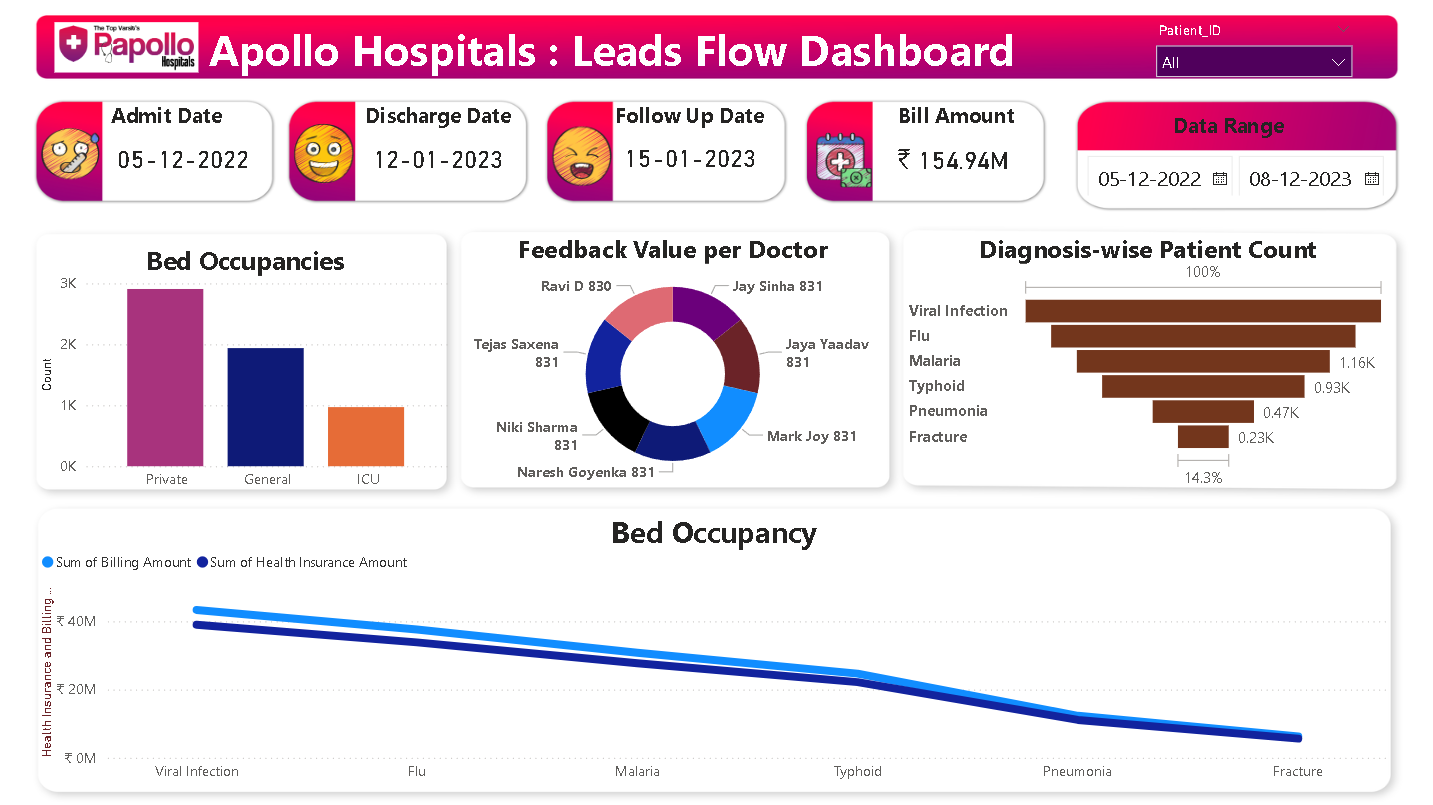

What the dashboard file says about the page in this screenshot:
{"tool":"powerbi","page":{"name":"Page 1","canvas":[1280,720],"ordinal":0},"visuals":[{"type":"textbox","box":[183.7,15.1,761.6,61.6],"z":0},{"type":"image","box":[34.3,104.3,61.7,67.2],"z":1000},{"type":"image","box":[16.5,16.5,196.2,54.9],"z":2000},{"type":"image","box":[259.3,107,63.1,63.1],"z":3000},{"type":"image","box":[481.6,108.4,78.2,63.1],"z":4000},{"type":"image","box":[723.2,108.4,59,70],"z":5000},{"type":"slicer","fields":{"Values":["Sheet1 (2).Patient_ID"]},"box":[1019.6,16.5,194.9,59],"z":6000},{"type":"card","fields":{"Values":["Sheet1 (2).Admit_Date"]},"box":[95.3,109.3,140.7,68.6],"z":7000},{"type":"textbox","box":[96.5,87.2,136,41.9],"z":8000},{"type":"textbox","box":[544.9,87.1,164.1,42.4],"z":9000},{"type":"textbox","box":[322.1,87.2,150,41.9],"z":10000},{"type":"textbox","box":[795,87.1,136.2,42.4],"z":11000},{"type":"card","fields":{"Values":["Sheet1 (2).Followup Date"]},"box":[545.4,108.1,140.7,68.6],"z":12000},{"type":"card","fields":{"Values":["Sheet1 (2).Discharge_Date"]},"box":[322.1,109.3,140.7,68.6],"z":13000},{"type":"card","fields":{"Values":["Sheet1 (2).Billing Amount"]},"box":[768.6,110.5,162.8,68.6],"z":14000},{"type":"slicer","fields":{"Values":["Sheet1 (2).Admit_Date"]},"box":[957,129.5,283.6,45.8],"z":15000},{"type":"textbox","box":[1039.6,96,136.2,42.4],"z":16000},{"type":"columnChart","title":"Bed Occupancies","fields":{"Category":["Sheet1 (2).Bed_Occupancy"],"Y":["Sheet1 (2).Bed_Occupancy"]},"box":[34.9,216.3,372.1,239.5],"z":17000},{"type":"donutChart","title":"Feedback Value per Doctor","fields":{"Category":["Sheet1 (2).Doctor"],"Y":["Sheet1 (2).Doctor"]},"box":[407,207,388.4,233.7],"z":18000},{"type":"funnel","title":"Diagnosis-wise Patient Count","fields":{"Category":["Sheet1 (2).Diagnosis"],"Y":["Sheet1 (2).Diagnosis"]},"box":[805.8,207,434.9,233.7],"z":19000},{"type":"lineChart","title":"Bed Occupancy","fields":{"Y":["Sheet1 (2).Billing Amount","Sheet1 (2).Health Insurance Amount"],"Category":["Sheet1 (2).Diagnosis"]},"box":[34.9,455.8,1205.8,250],"z":20000}]}

Visuals, with their boxes in screenshot pixels (x1, y1, x2, y2), scaled from the page's 1280x720 canvas onto the 1433x805 screenshot:
textbox: 206/17/1058/86
image: 38/117/107/192
image: 18/18/238/80
image: 290/120/361/190
image: 539/121/627/192
image: 810/121/876/199
slicer - Sheet1 (2).Patient_ID: 1141/18/1360/84
card - Sheet1 (2).Admit_Date: 107/122/264/199
textbox: 108/97/260/144
textbox: 610/97/794/145
textbox: 361/97/529/144
textbox: 890/97/1043/145
card - Sheet1 (2).Followup Date: 611/121/768/198
card - Sheet1 (2).Discharge_Date: 361/122/518/199
card - Sheet1 (2).Billing Amount: 860/124/1043/200
slicer - Sheet1 (2).Admit_Date: 1071/145/1389/196
textbox: 1164/107/1316/155
"Bed Occupancies" columnChart: 39/242/456/510
"Feedback Value per Doctor" donutChart: 456/231/890/493
"Diagnosis-wise Patient Count" funnel: 902/231/1389/493
"Bed Occupancy" lineChart: 39/510/1389/789
